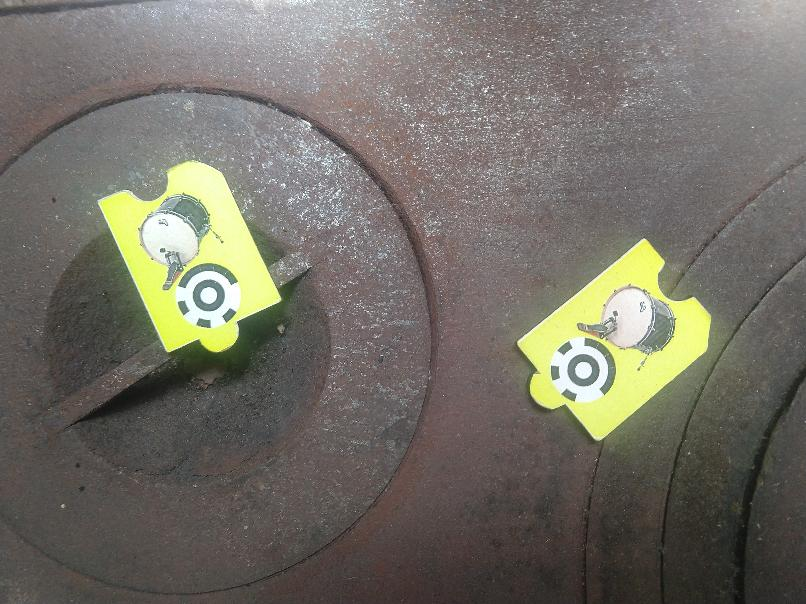bumbo: (519, 238, 711, 445), (95, 159, 281, 353)
